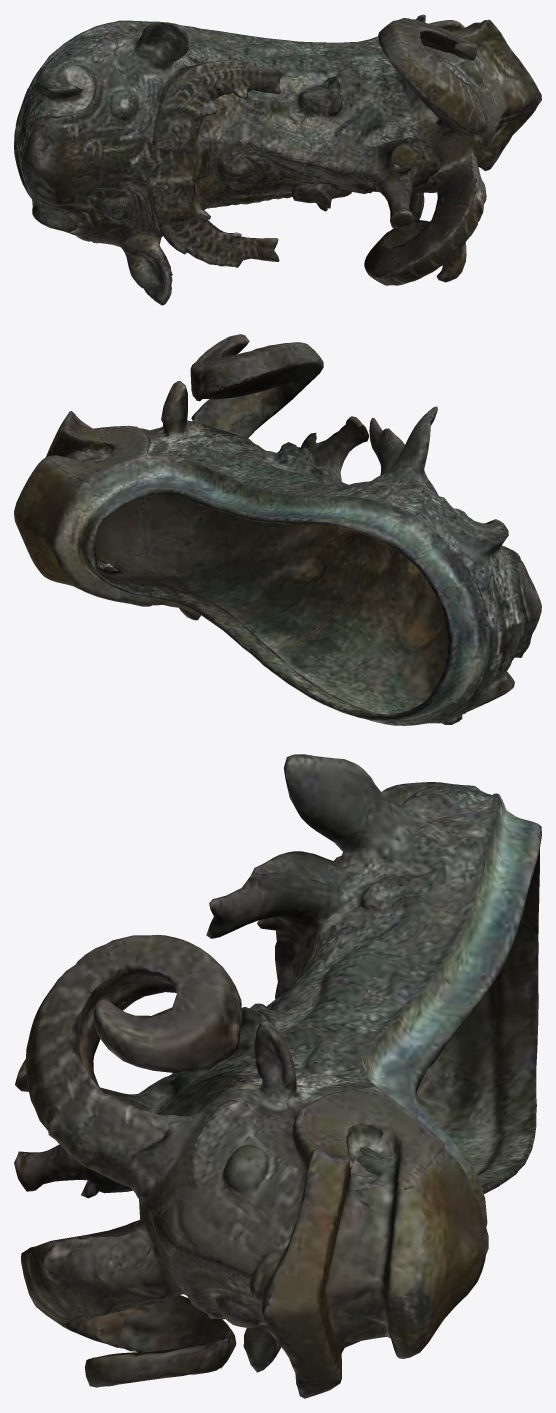
The model's file is f1961_33-part_01-laser-ortery_texture-30k-512-web.glb.
3 renders of one model, top to bottom at view 1: azimuth 30°, elevation 25°; view 2: azimuth 150°, elevation 25°; view 3: azimuth 270°, elevation 25°, orthographic. The views are drawn at different scales.
Bounding box in the file's own units: 0.2602 × 0.143 × 0.1464.
1 material, 1 textured.
